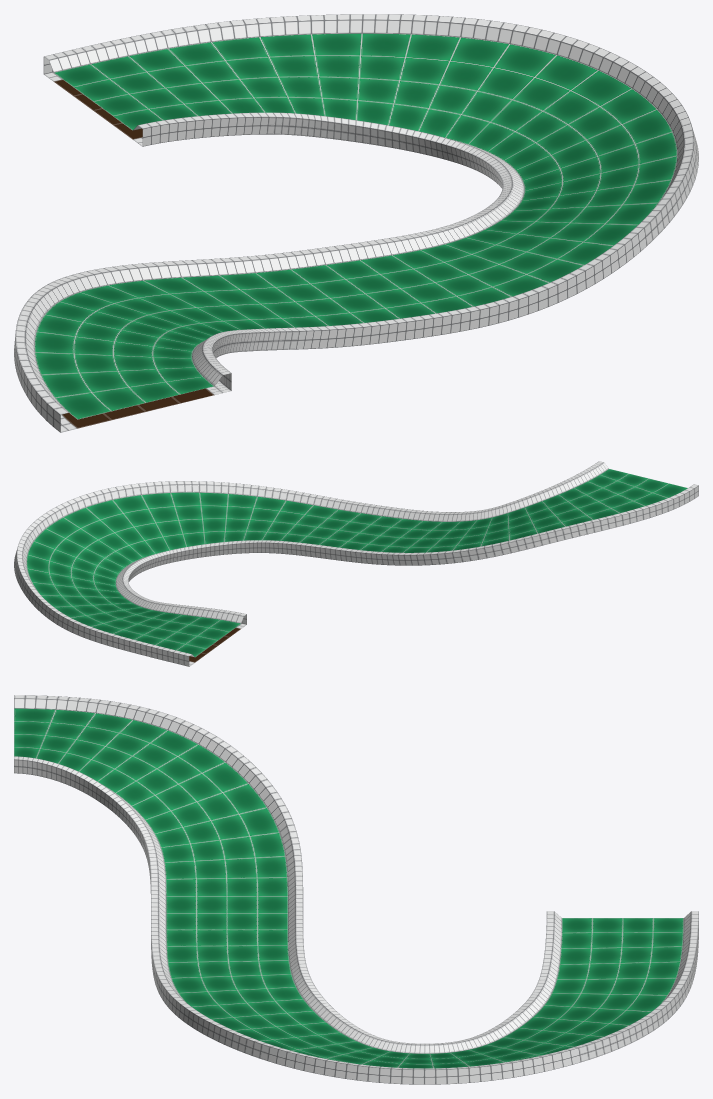
The model's file is GetMovingCurve2.obj.
3 views of the same model, one above another, from view 1: azimuth 30°, elevation 25°; view 2: azimuth 150°, elevation 25°; view 3: azimuth 270°, elevation 25° (orthographic). The views are drawn at different scales.
Visible parts, largest first — view 1: Cube_Cube.002; view 2: Cube_Cube.002; view 3: Cube_Cube.002.
Part boxes in pixels (left/top/right/bottom): Cube_Cube.002: left=14, top=14, right=698, bottom=432; Cube_Cube.002: left=14, top=461, right=698, bottom=666; Cube_Cube.002: left=14, top=695, right=698, bottom=1084.
Bounding box in the file's own units: 50.48 × 7.5 × 45.
